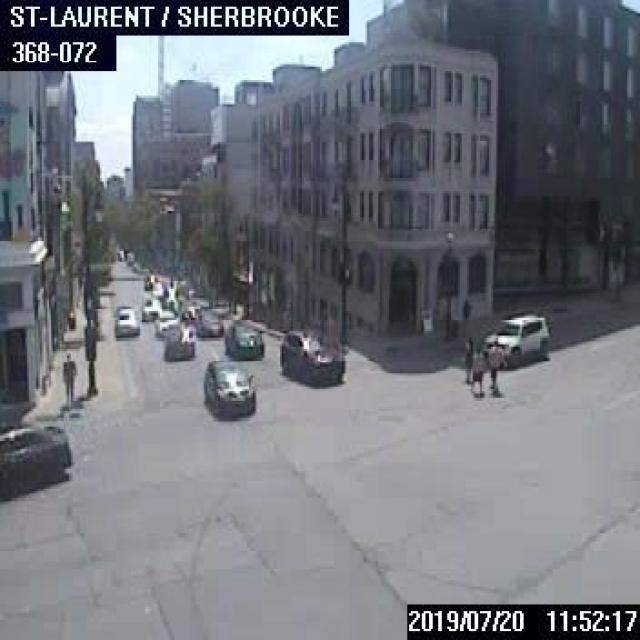pedestrian: (485, 337, 505, 391), (60, 351, 75, 402), (470, 342, 483, 393), (460, 333, 473, 379)
vehicle: (0, 418, 71, 500), (276, 329, 346, 384), (480, 311, 549, 365), (204, 360, 254, 413), (223, 320, 263, 358), (162, 323, 193, 358), (195, 306, 223, 334), (113, 307, 138, 336), (152, 308, 178, 335), (141, 297, 160, 319)
